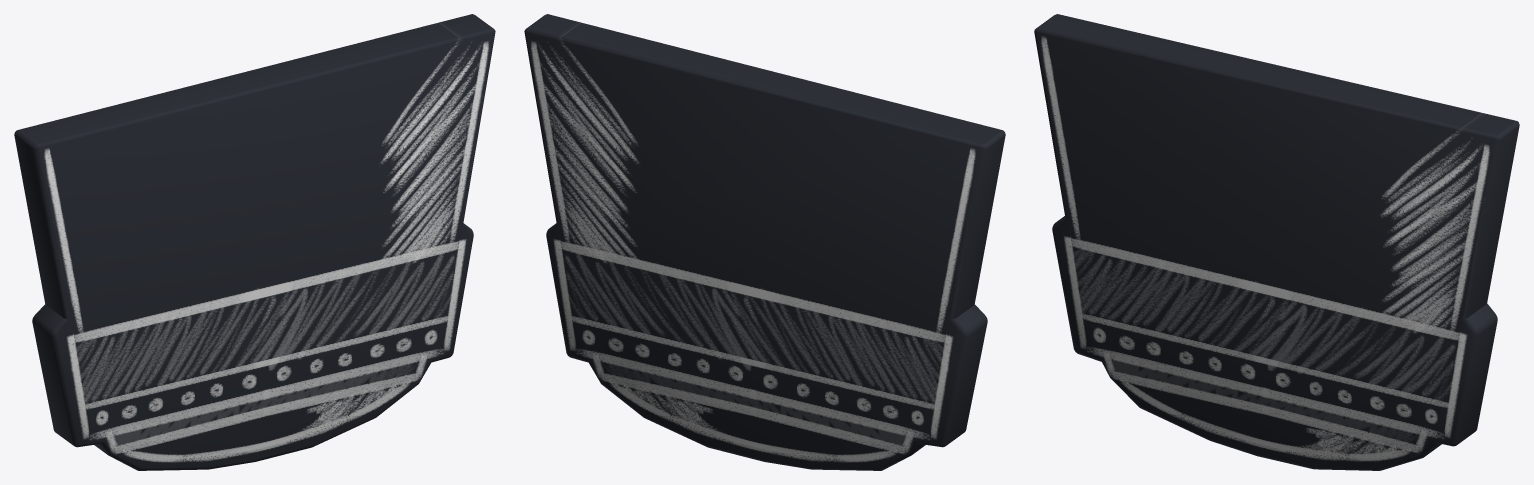
Rendered from SpaceshipTop.fbx.
The picture shows the model from 3 angles, left to right: view 1: azimuth 30°, elevation 25°; view 2: azimuth 150°, elevation 25°; view 3: azimuth 330°, elevation 25°; orthographic projection.
Parts seen in each view (by area): view 1: m_SpaceshipTop; view 2: m_SpaceshipTop; view 3: m_SpaceshipTop.
Boxes of the visible parts, x1,y1,x2,y2 form: m_SpaceshipTop: (14, 14, 495, 470); m_SpaceshipTop: (524, 14, 1005, 470); m_SpaceshipTop: (1034, 14, 1519, 470).
Size of the model in its own units: 1.16 by 0.9006 by 0.1.
